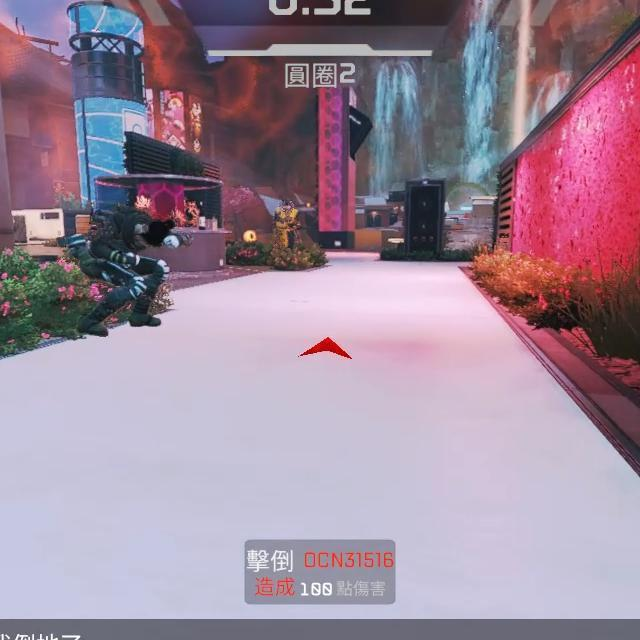avatar: (65, 205, 176, 338), (272, 201, 301, 247)
